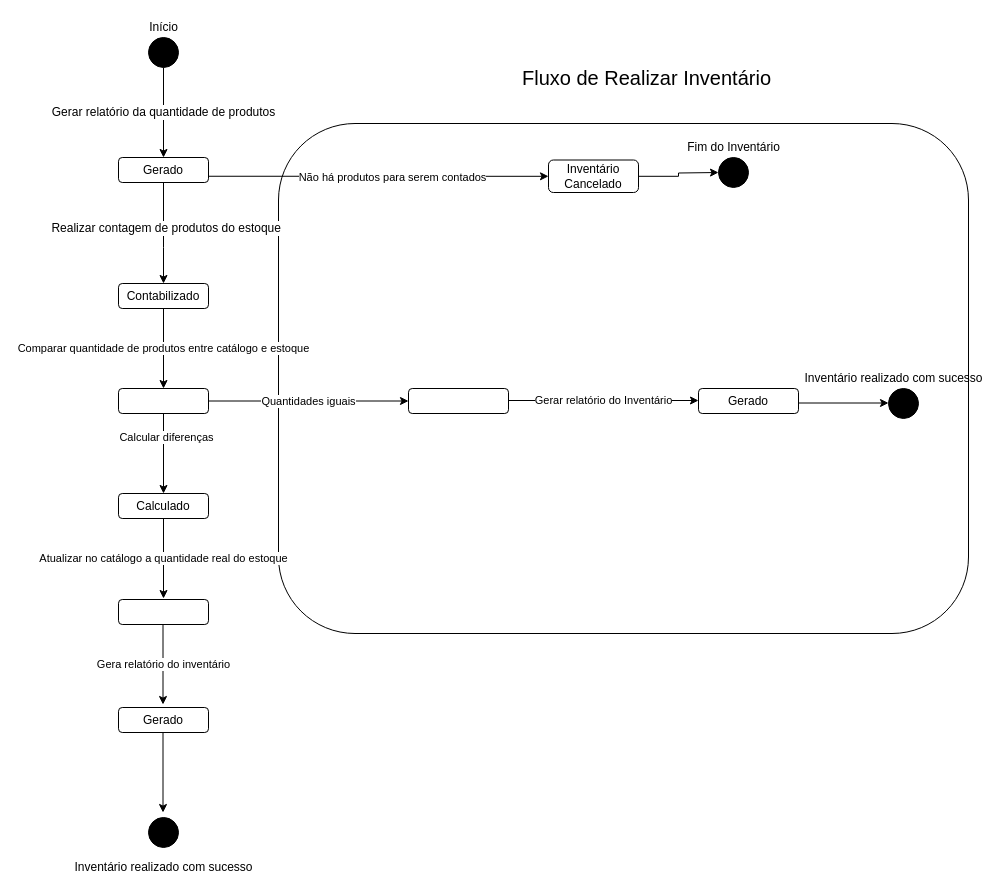
The diagram is 1005 pixels wide and 894 high, and some of its shapes have lost their labels. The centre of each missing label's shape, as x and y in pixels:
"Atualizado" goes at pixel 163 611.
"Comparado" goes at pixel 163 401.
"Confirmado" goes at pixel 458 401.
